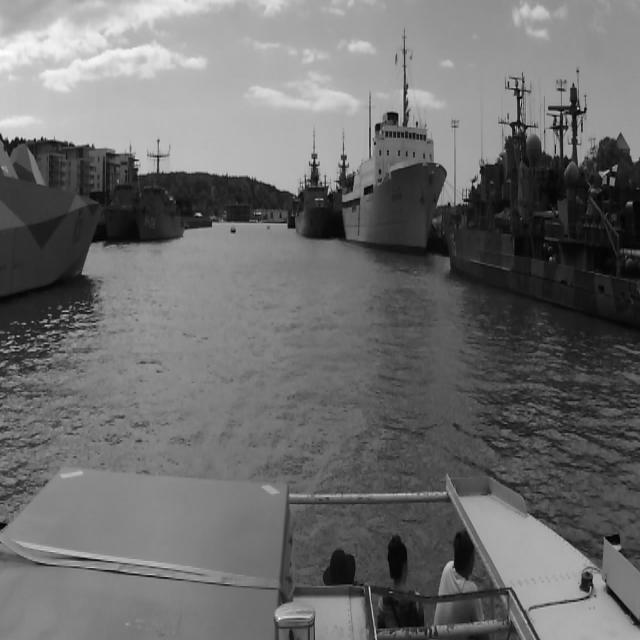ship: (444, 51, 636, 326), (3, 134, 98, 297), (344, 121, 438, 252), (297, 134, 335, 235), (138, 180, 184, 242), (102, 178, 135, 242), (229, 225, 237, 234), (267, 224, 271, 231)
